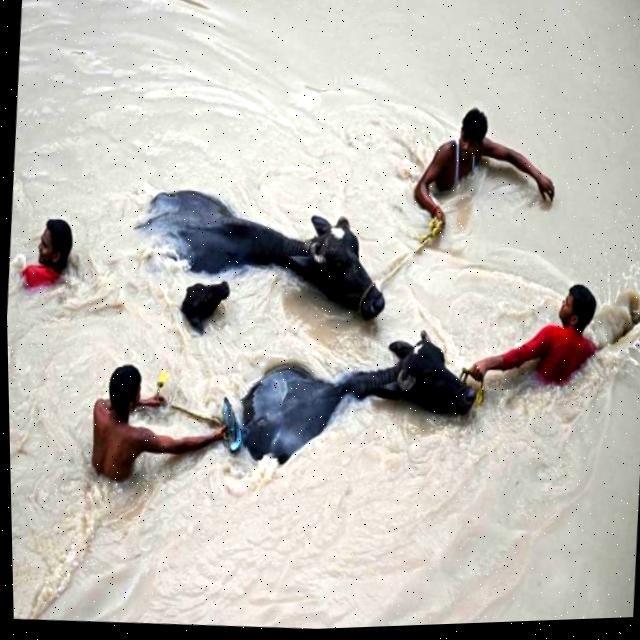civilian: (376, 85, 592, 242), (51, 347, 244, 502), (459, 260, 618, 412), (8, 207, 81, 304)
cow: (206, 315, 491, 481), (129, 168, 403, 336), (160, 267, 248, 340)
